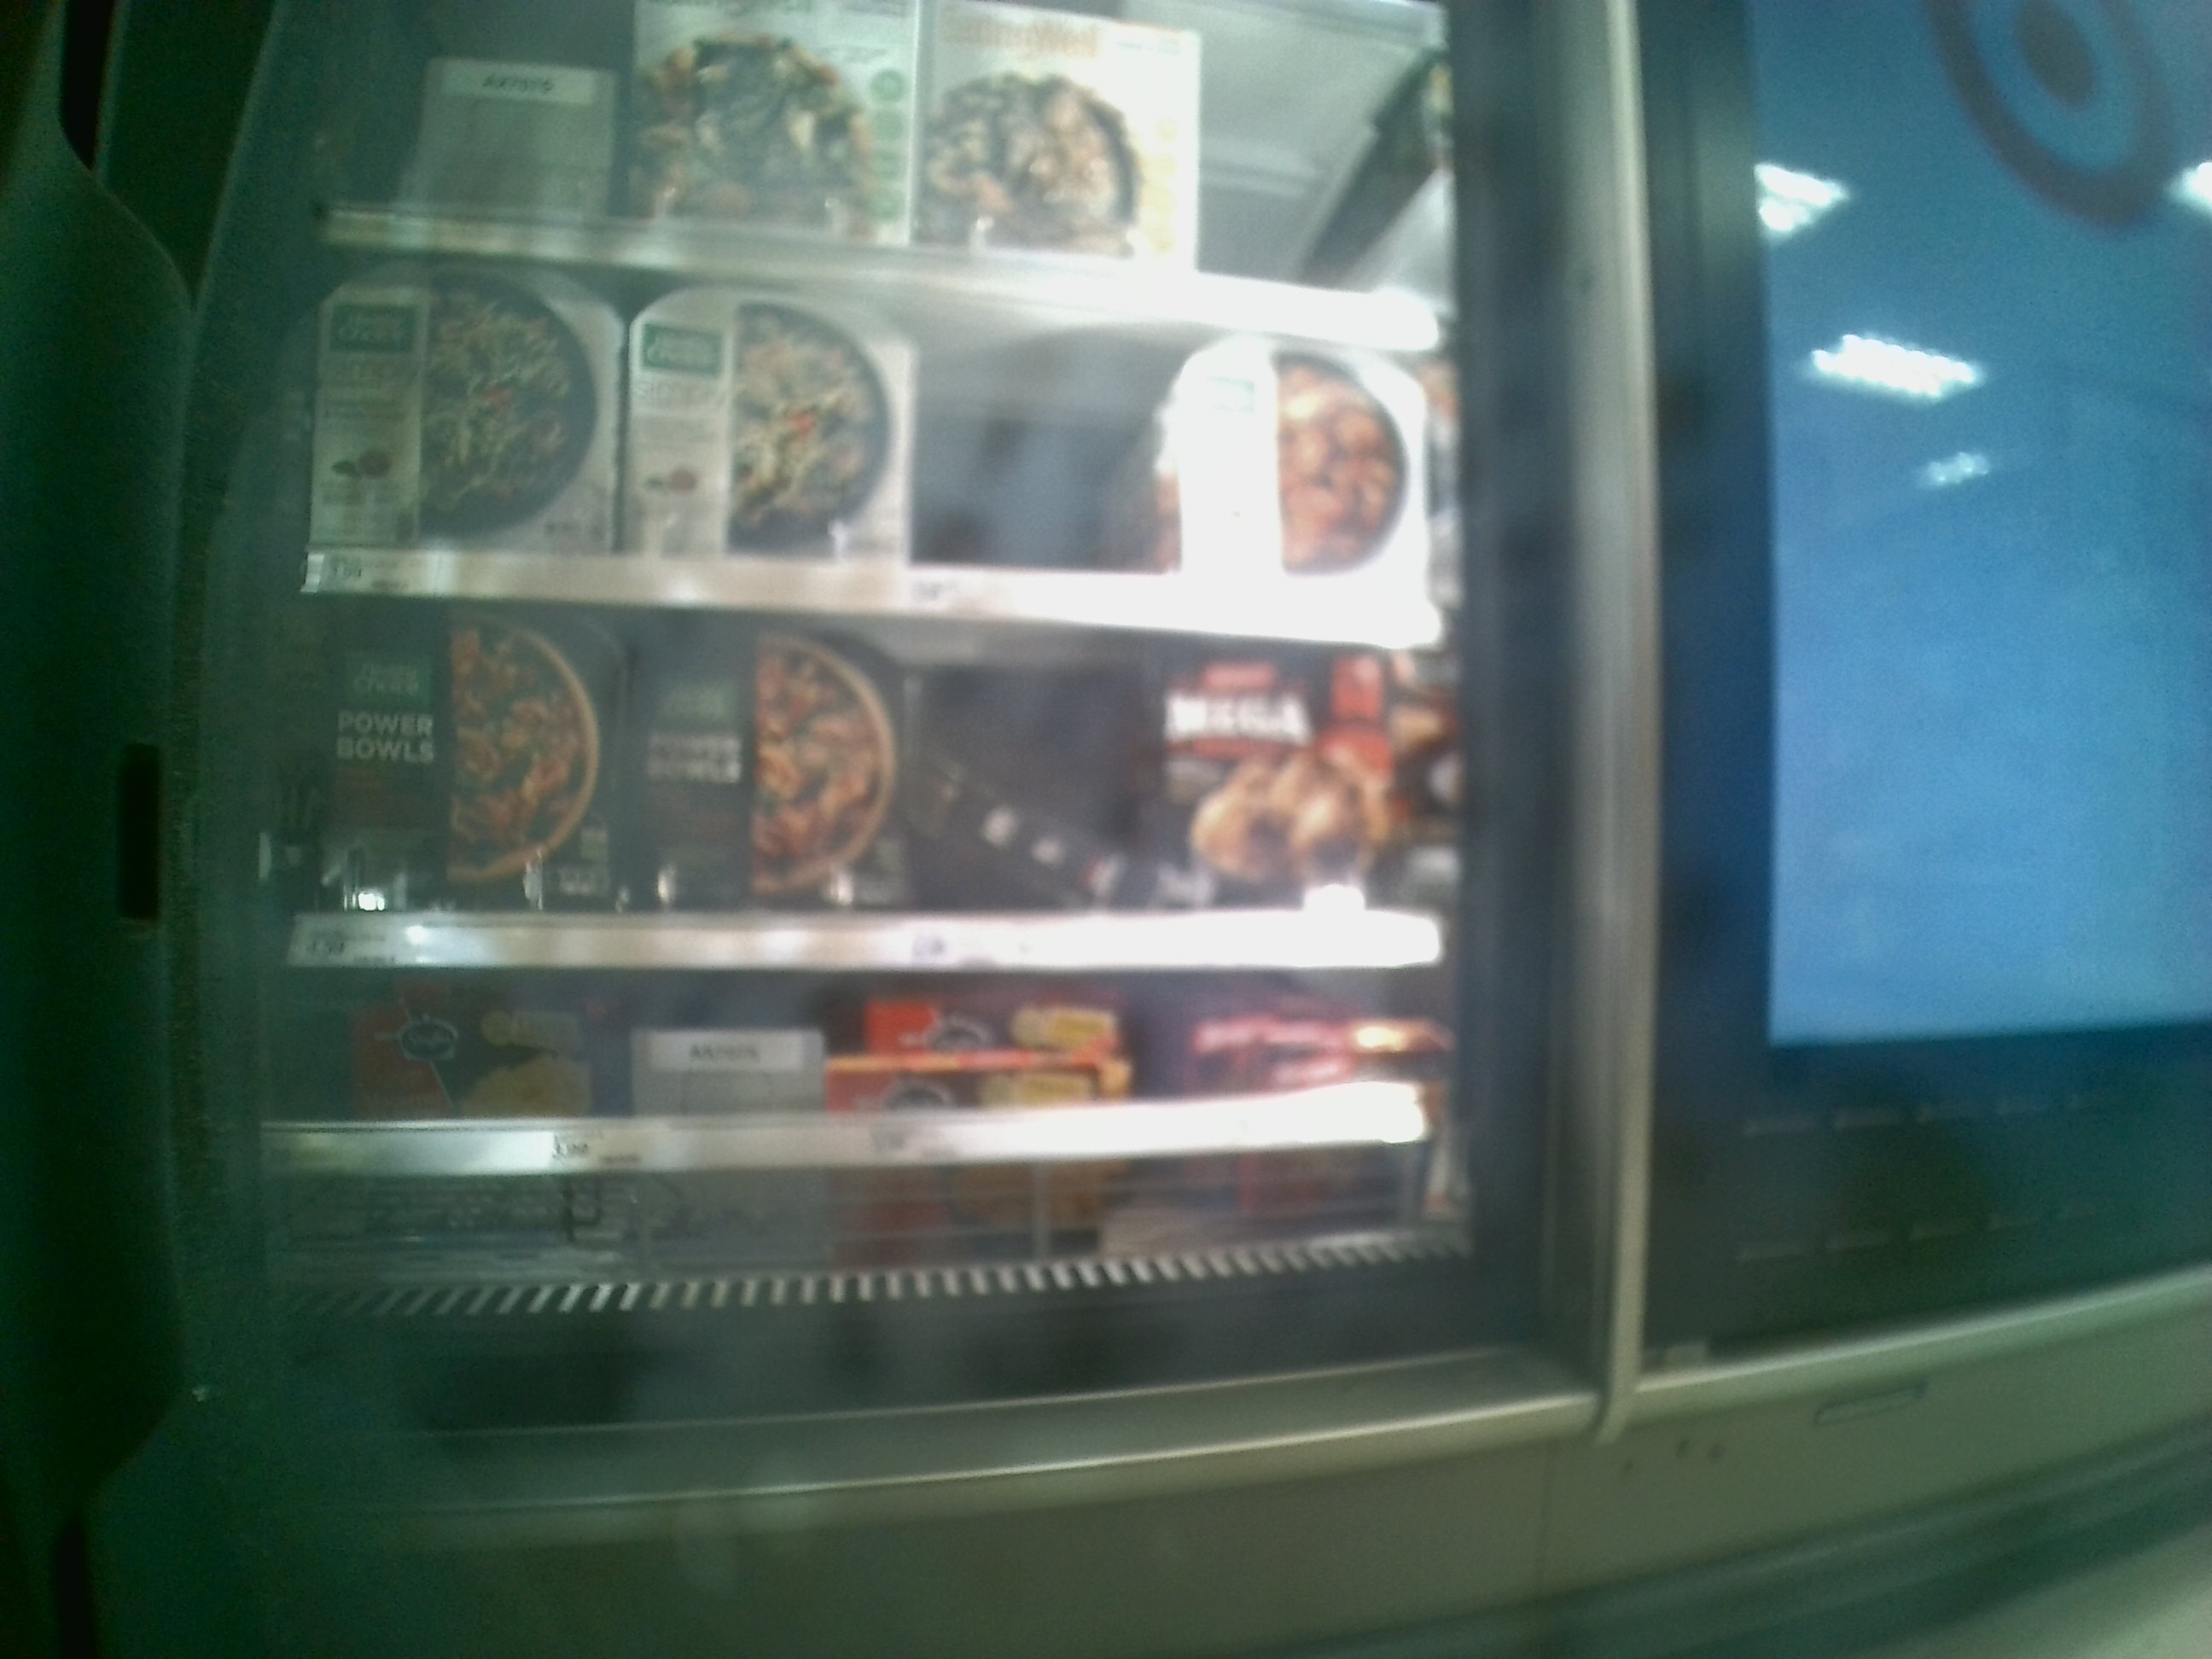shelf: (314, 225, 1440, 647), (305, 592, 1440, 972)
